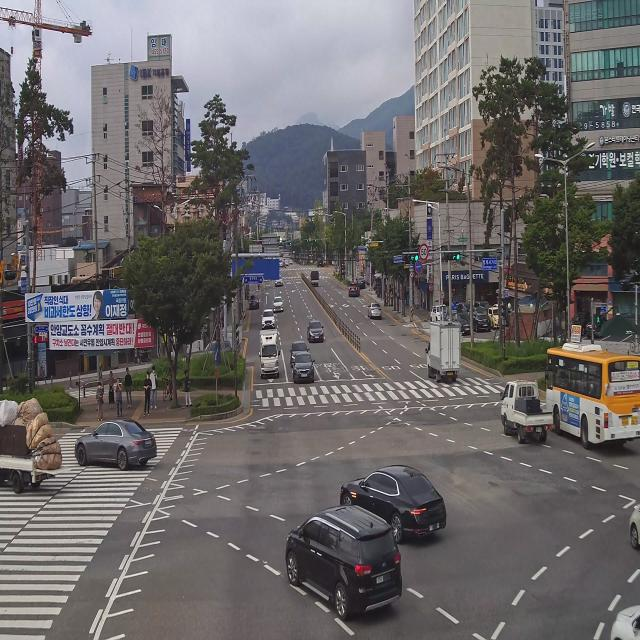Bus: (532, 330, 640, 458)
Car: (268, 500, 413, 630), (318, 429, 443, 550), (72, 414, 163, 477), (292, 352, 318, 392), (198, 334, 233, 360), (565, 308, 592, 339), (308, 309, 330, 343), (586, 308, 608, 337), (362, 292, 381, 324), (271, 290, 292, 316), (453, 313, 474, 339), (345, 279, 362, 307), (289, 338, 309, 360), (260, 307, 276, 334), (429, 300, 446, 324), (270, 271, 289, 288), (458, 298, 472, 316), (249, 292, 261, 312), (443, 306, 454, 322), (356, 272, 364, 288)
Truck: (0, 388, 69, 498), (491, 373, 553, 454), (424, 318, 462, 384), (256, 329, 282, 380), (308, 262, 322, 293)
